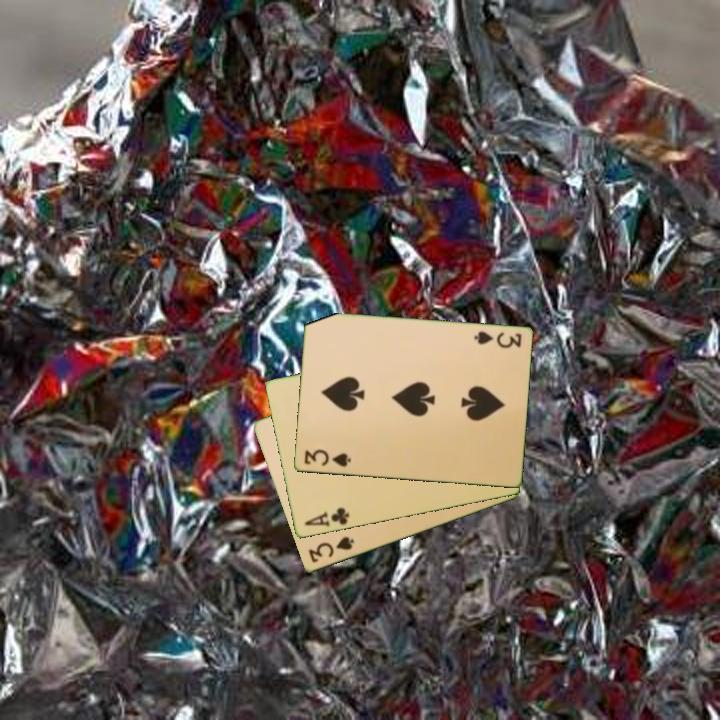3s: (305, 533, 357, 566), (300, 447, 354, 470), (471, 328, 524, 351)
Ac: (301, 504, 352, 530)
